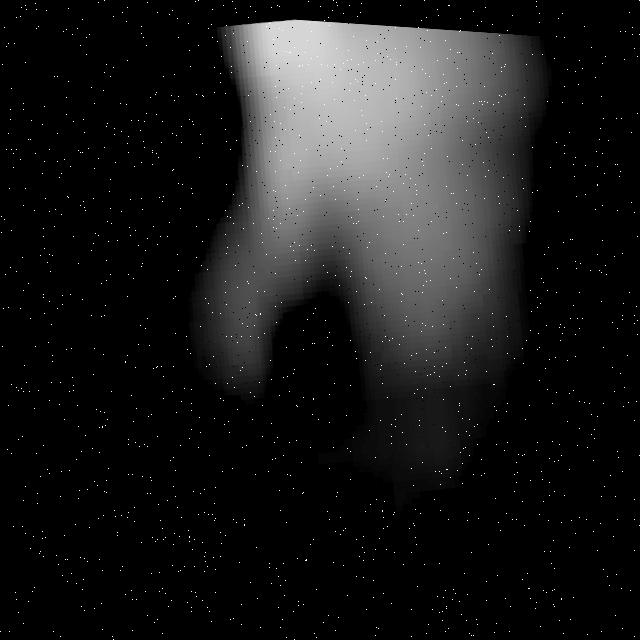person: (175, 11, 596, 521)
